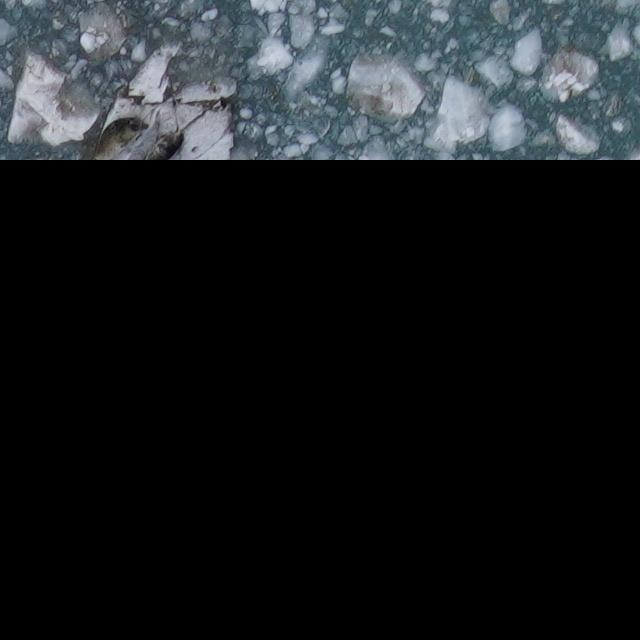seal: (89, 114, 151, 160), (139, 127, 189, 160)
